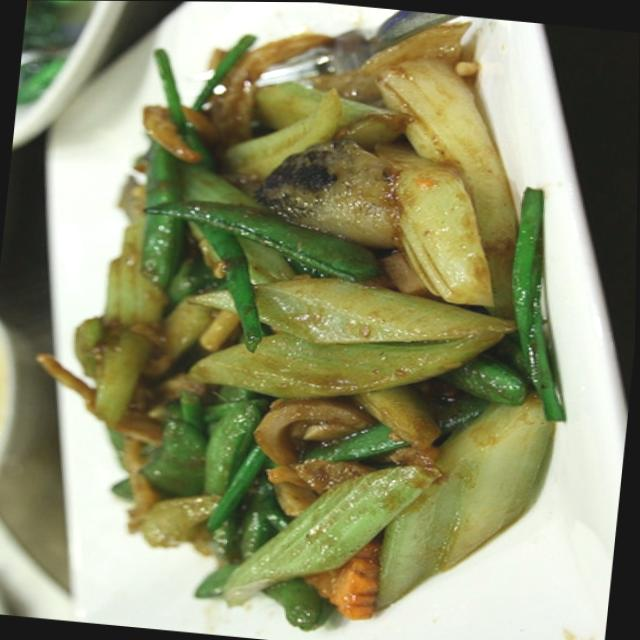蔬菜料理: (0, 0, 632, 640)
